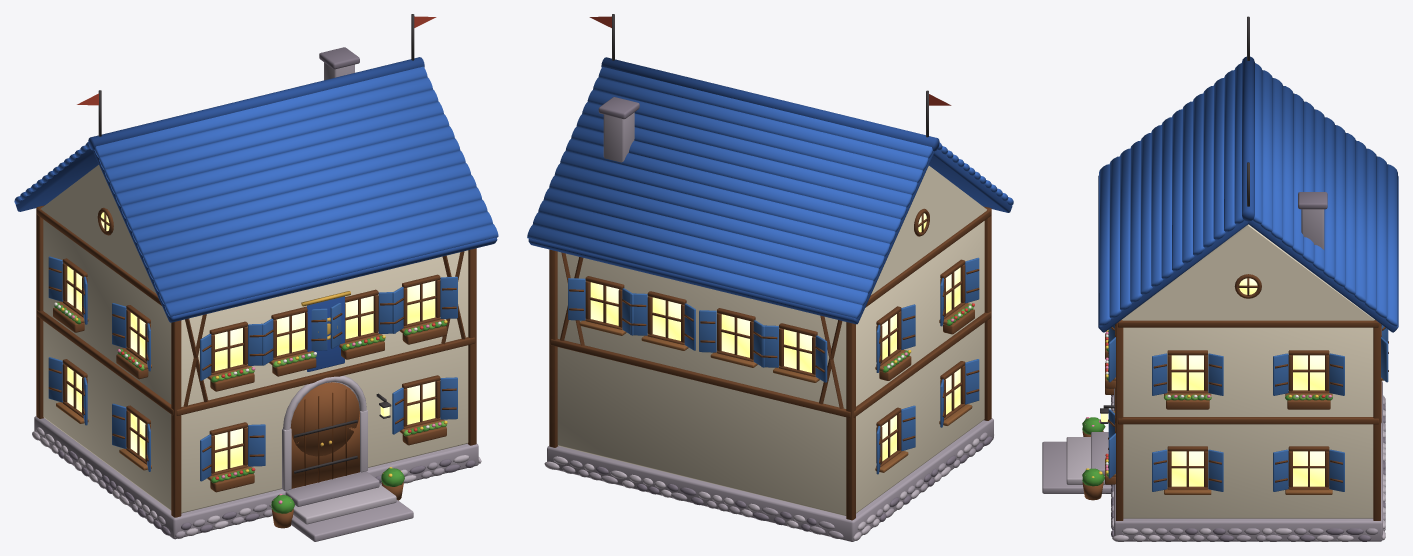
File: bld_hall_blue_v02.glb
The picture shows the model from 3 angles, left to right: view 1: azimuth 30°, elevation 25°; view 2: azimuth 150°, elevation 25°; view 3: azimuth 270°, elevation 25°; orthographic projection. The views are drawn at different scales.
Parts seen in each view (by area): view 1: bld_hall_blue_v02; view 2: bld_hall_blue_v02; view 3: bld_hall_blue_v02.
Part boxes in pixels (x1,y1,x2,y2): bld_hall_blue_v02: (14,14,498,541); bld_hall_blue_v02: (527,14,1013,541); bld_hall_blue_v02: (1042,16,1398,541).
Bounding box in the file's own units: 10.5 × 11.1 × 9.41.
2 materials, 1 textured.
